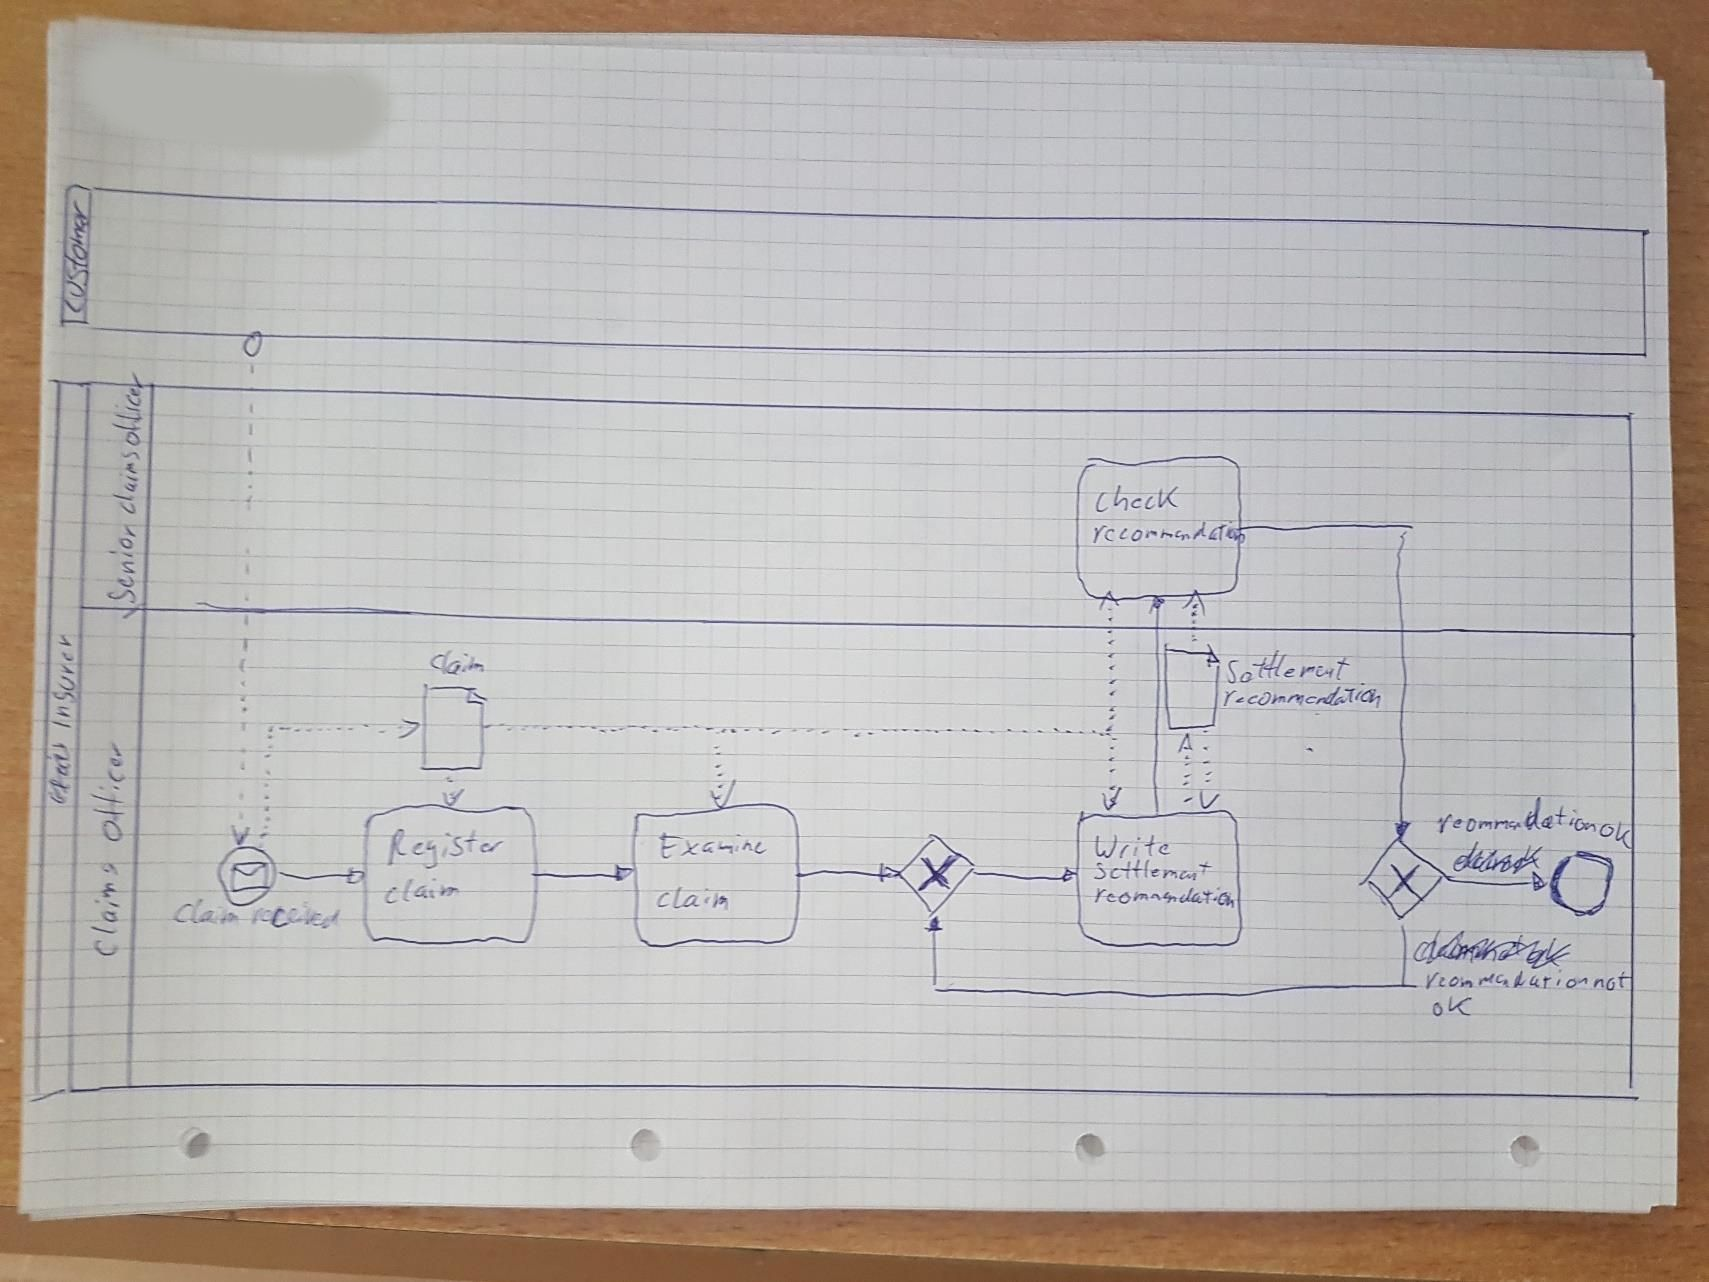Claim: (166, 894, 246, 932)
Examine: (650, 828, 772, 866)
Insurer: (47, 628, 79, 735)
Register: (378, 823, 509, 875)
Senior: (100, 518, 141, 607)
Settlement: (1217, 646, 1356, 691), (1085, 855, 1215, 886)
Write: (1088, 828, 1174, 866)
check: (1087, 481, 1182, 517)
claim: (376, 873, 465, 910), (650, 882, 733, 916), (422, 645, 490, 681)
claims: (83, 856, 127, 963), (106, 446, 143, 520)
customer: (57, 197, 96, 318)
not: (1586, 967, 1634, 995)
officer: (90, 737, 128, 848), (101, 366, 147, 450)
ok: (1423, 990, 1476, 1022), (1593, 816, 1634, 854)
received: (242, 900, 346, 935)
recommandation: (1428, 792, 1603, 839)
recommendation: (1216, 679, 1384, 714), (1083, 516, 1250, 549)
reommendation: (1417, 966, 1590, 995), (1087, 882, 1238, 914)
